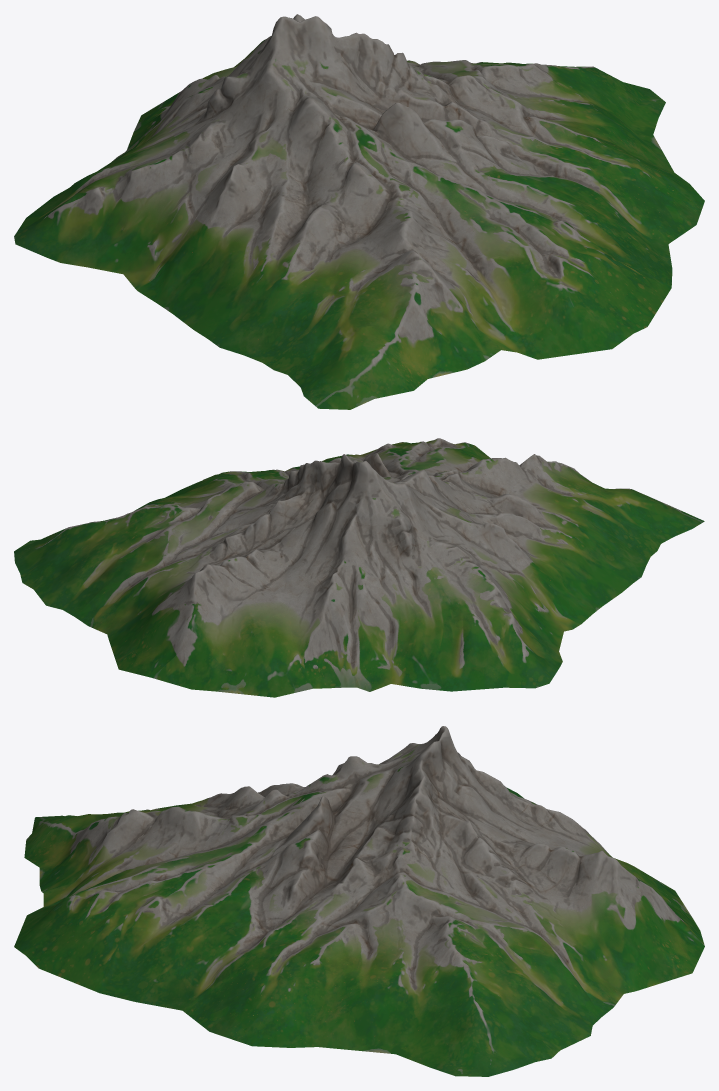
File: MSH_fwOF_BackgroundMountain_01.fbx
The picture shows the model from 3 angles, top to bottom: view 1: azimuth 30°, elevation 25°; view 2: azimuth 150°, elevation 25°; view 3: azimuth 270°, elevation 25°; orthographic projection. The views are drawn at different scales.
Visible parts, largest first — view 1: MSH_fwOF_BackgroundMountain_01; view 2: MSH_fwOF_BackgroundMountain_01; view 3: MSH_fwOF_BackgroundMountain_01.
Boxes of the visible parts, left/top/right/bottom form: MSH_fwOF_BackgroundMountain_01: left=14, top=14, right=704, bottom=409; MSH_fwOF_BackgroundMountain_01: left=14, top=438, right=704, bottom=697; MSH_fwOF_BackgroundMountain_01: left=14, top=726, right=704, bottom=1076.
Bounding box in the file's own units: 1631 × 477 × 1650.
